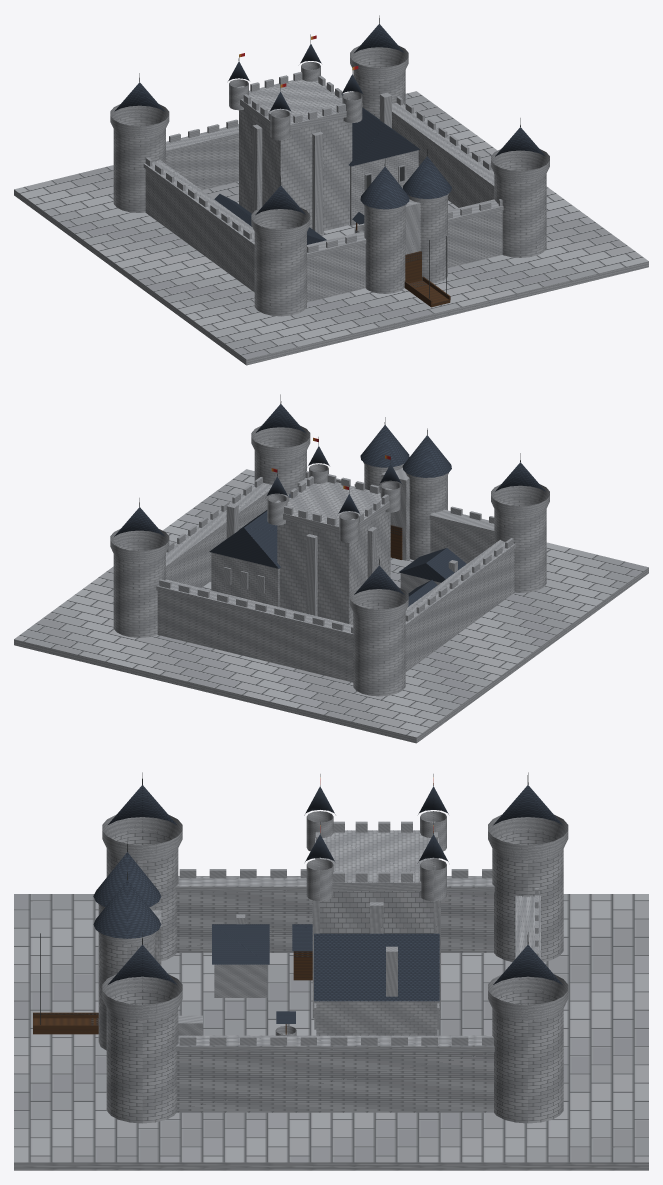
The model's file is yevropa_qalasi.glb.
3 views of the same model, one above another, from view 1: azimuth 30°, elevation 25°; view 2: azimuth 150°, elevation 25°; view 3: azimuth 270°, elevation 25° (orthographic). The views are drawn at different scales.
Visible parts, largest first — view 1: Medieval_European_Castle; view 2: Medieval_European_Castle; view 3: Medieval_European_Castle.
Part boxes in pixels (x1,y1,x2,y2): Medieval_European_Castle: (14,15,648,365); Medieval_European_Castle: (14,394,648,743); Medieval_European_Castle: (14,772,648,1170).
Size of the model in its own units: 84 by 33 by 84.
Materials: 1 (1 with a texture image).
